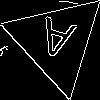A: (32, 16, 78, 69)
